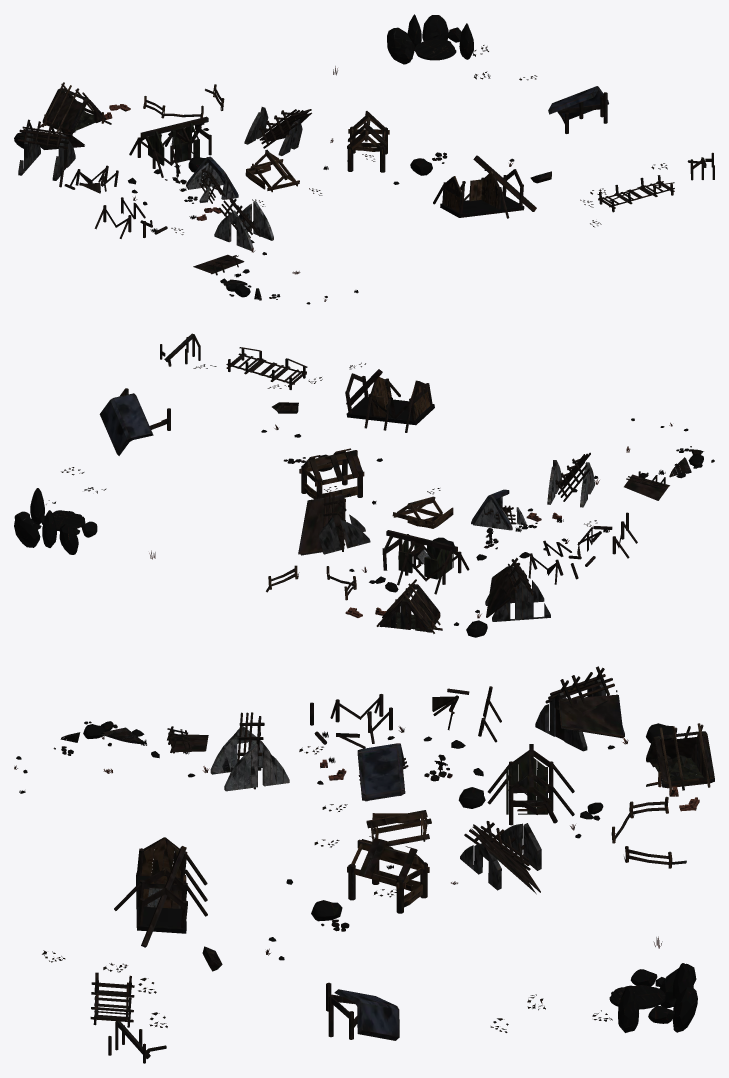
Rendered from DECORS_compressed.glb.
3 renders of one model, top to bottom at view 1: azimuth 30°, elevation 25°; view 2: azimuth 150°, elevation 25°; view 3: azimuth 270°, elevation 25°, orthographic. The views are drawn at different scales.
Parts seen in each view (by area): view 1: +barac; view 2: +barac; view 3: +barac.
Part boxes in pixels (x1,y1,x2,y2): +barac: (14,14,714,304); +barac: (14,333,714,637); +barac: (14,666,714,1063).
Size of the model in its own units: 51.77 by 6.37 by 44.2.
1 material, 1 textured.
